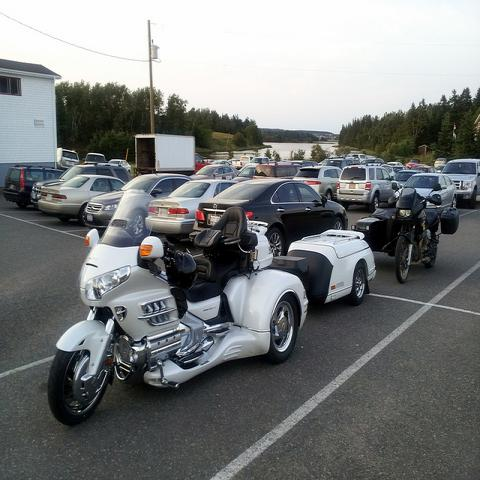car: (0, 9, 448, 209), (192, 175, 351, 257), (82, 169, 190, 233), (152, 179, 237, 246), (38, 177, 127, 224), (30, 165, 130, 204), (336, 163, 403, 216), (403, 173, 458, 214), (440, 159, 480, 209), (292, 163, 342, 199), (253, 162, 302, 181), (189, 164, 237, 180), (237, 162, 259, 182), (415, 165, 438, 174)
motorcycle: (50, 189, 307, 372), (269, 228, 383, 302), (392, 182, 444, 281), (349, 206, 396, 257)
truck: (136, 134, 196, 173)
